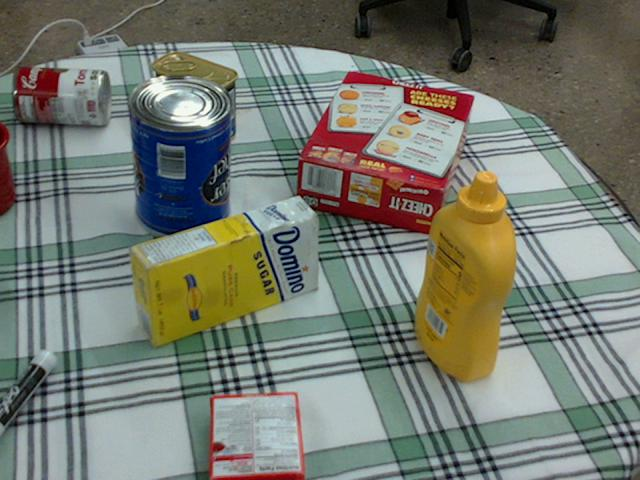cracker_box: (296, 71, 473, 234)
gelatin_box: (208, 392, 302, 479)
large_marker: (0, 349, 55, 432)
master_chef_can: (125, 75, 229, 240)
mug: (0, 119, 15, 212)
mustard_bottle: (415, 170, 516, 379)
potted_meat_can: (151, 53, 237, 146)
sugar_box: (128, 196, 318, 346)
tomato_soup_can: (12, 66, 110, 124)
